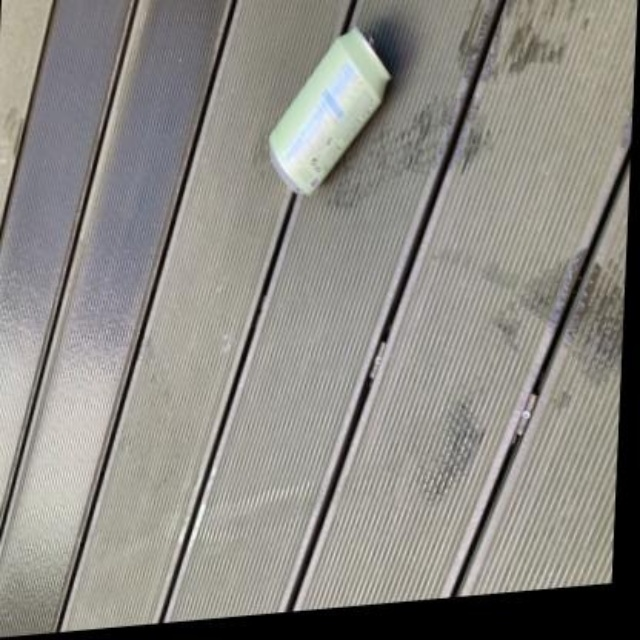trash: (269, 28, 389, 194)
